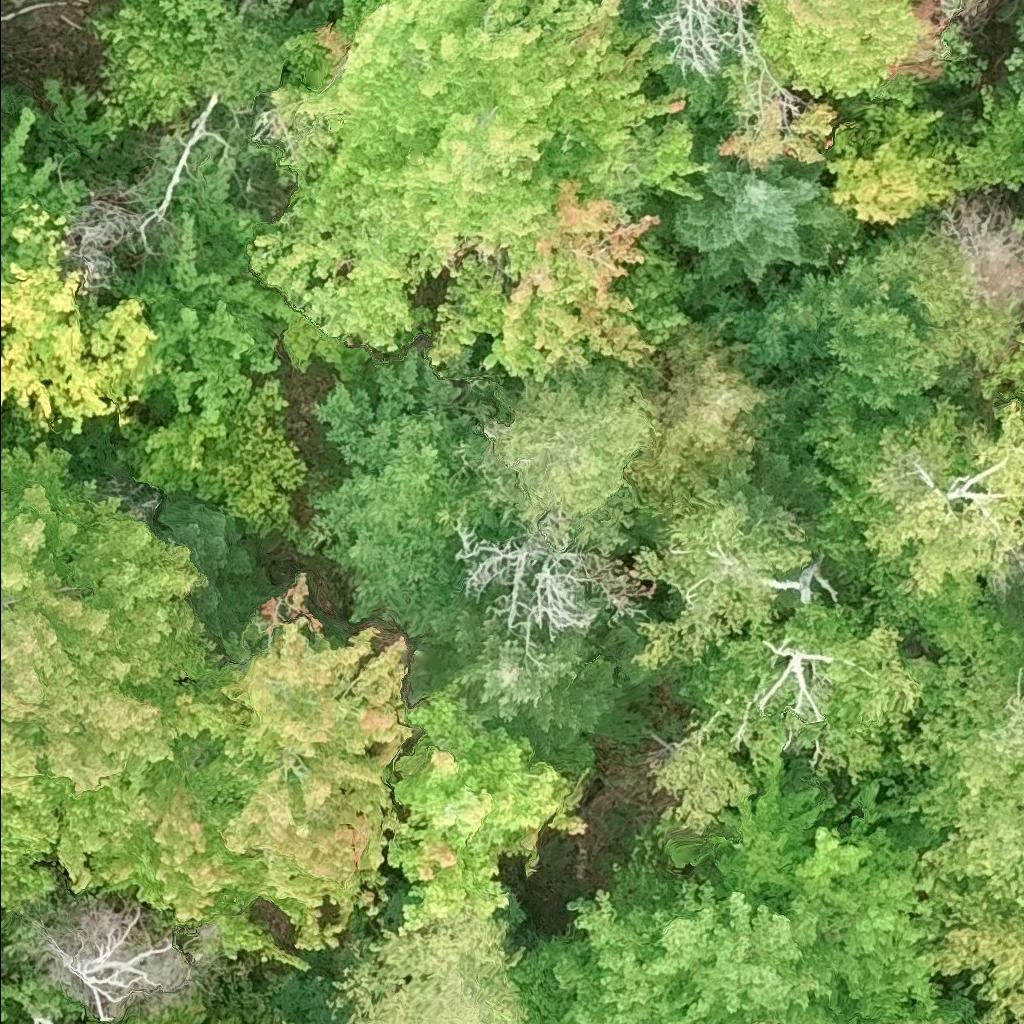crown: (0, 442, 313, 968), (275, 0, 715, 221), (246, 158, 665, 380), (216, 569, 419, 952), (513, 829, 860, 1023), (651, 592, 916, 837), (707, 762, 947, 1023), (880, 597, 1023, 1023), (0, 103, 167, 448), (810, 391, 1023, 652), (386, 679, 593, 935), (404, 608, 656, 780), (113, 209, 297, 422), (475, 352, 657, 552), (631, 469, 811, 663), (632, 156, 860, 294), (115, 374, 308, 536), (451, 513, 657, 639), (624, 336, 770, 509), (325, 913, 530, 1023), (751, 0, 957, 104), (155, 490, 278, 659), (823, 95, 964, 226), (52, 906, 191, 1023), (715, 94, 842, 183), (950, 82, 1023, 193), (88, 0, 237, 42), (101, 1000, 252, 1023), (0, 82, 27, 148), (1004, 44, 1023, 93), (879, 1018, 946, 1023), (1017, 582, 1023, 620), (1017, 13, 1023, 39), (1018, 162, 1023, 187), (1017, 222, 1023, 233)
